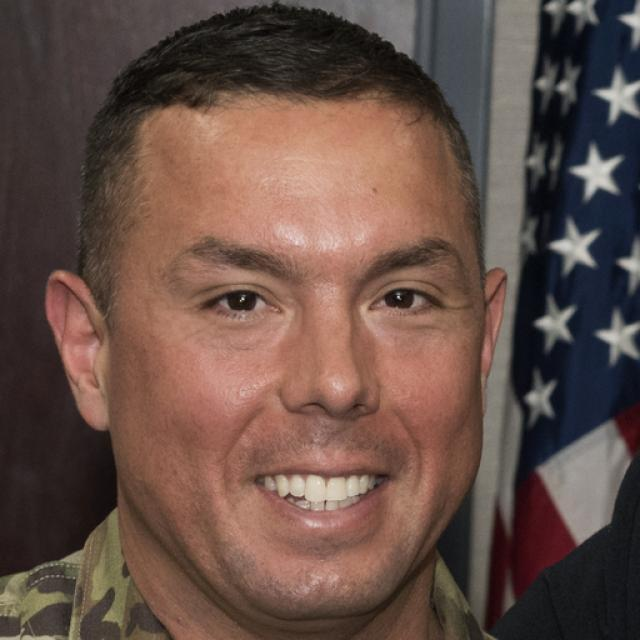happy: (108, 76, 490, 620)
